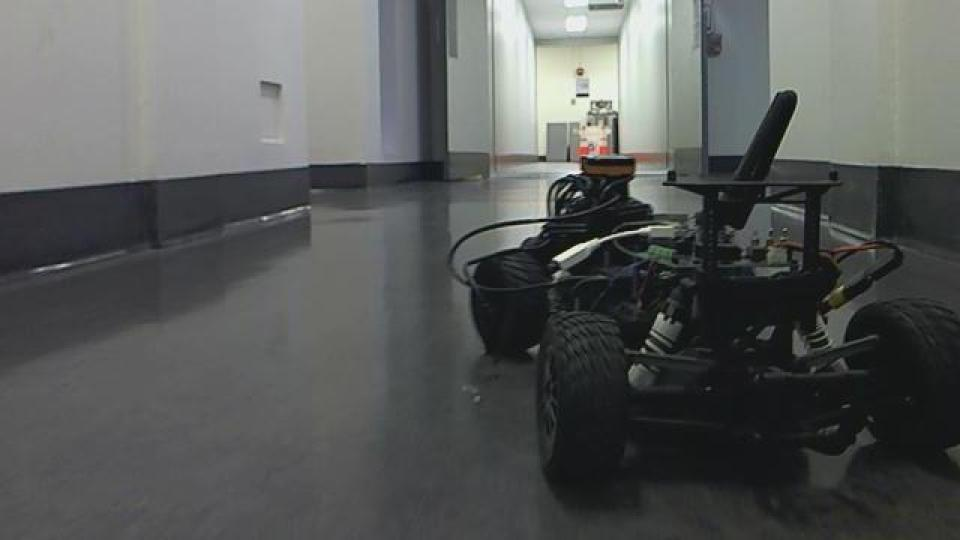car: (527, 87, 957, 492)
